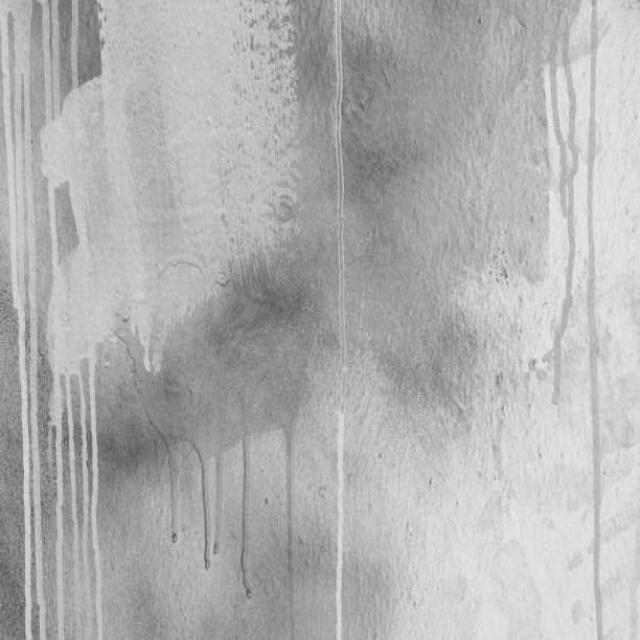paint drips: (0, 0, 111, 640), (128, 351, 312, 640), (535, 0, 609, 640)
